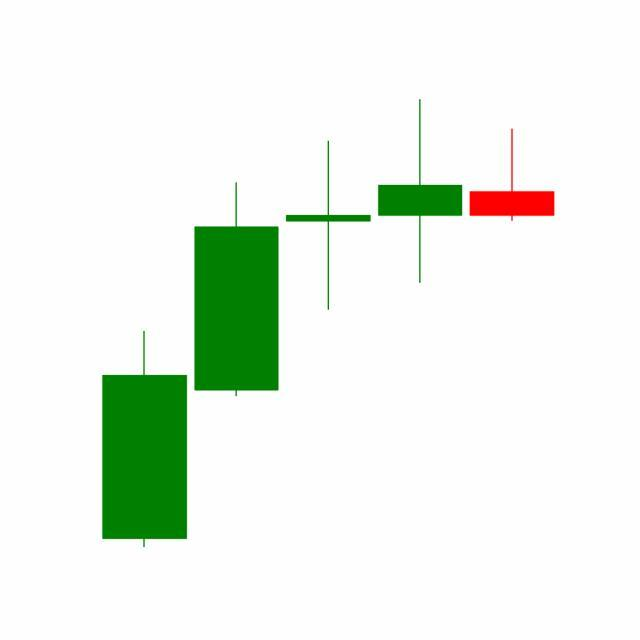Up-Down Gap Side-by-side White Lines: (190, 100, 467, 402)
